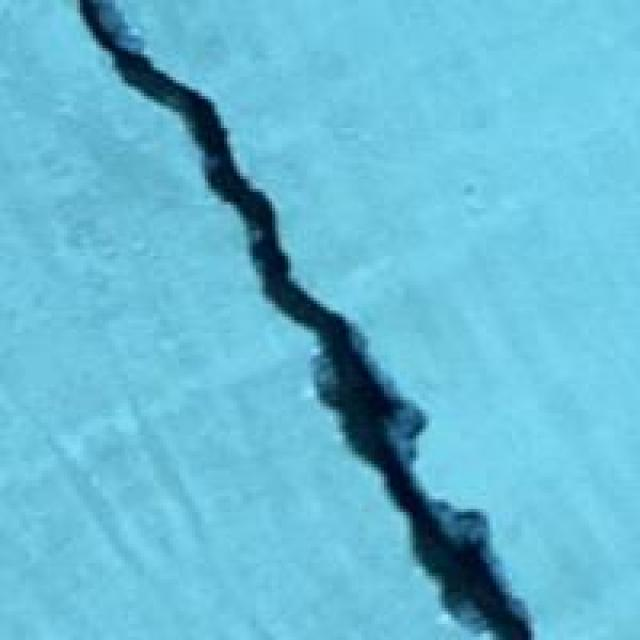crack: (58, 0, 524, 624)
